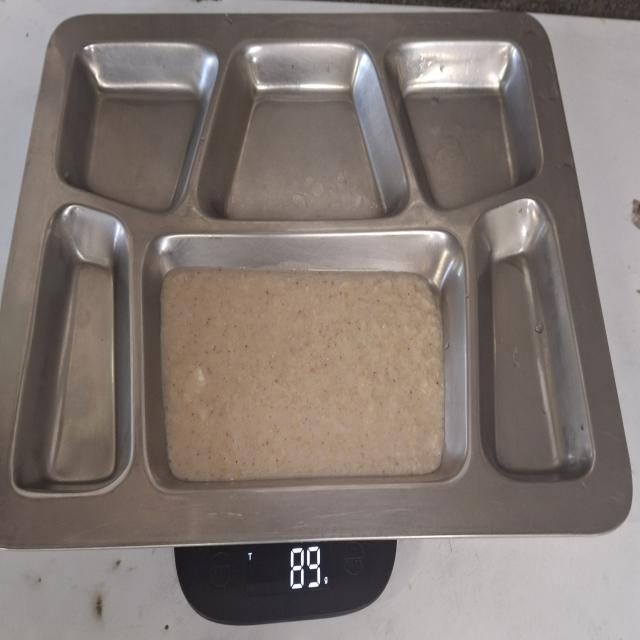Porridge: (158, 264, 446, 480)
